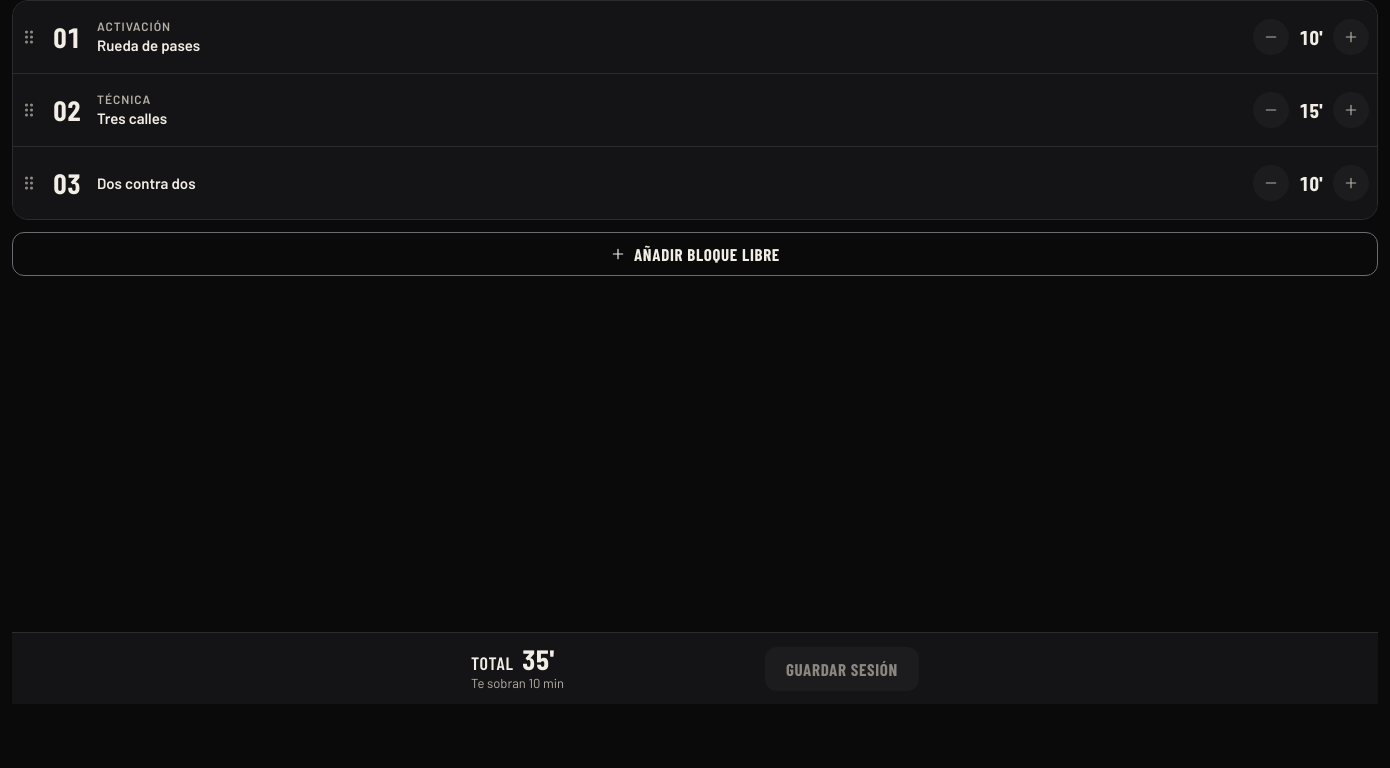
Scenario: PracticeBuilder · encaje con la franja › cambia al tocar +5 y −5: de sobrar a encajar y a pasarse, y vuelta
Click the button named "Más minutos, Rueda de pases" at [1351, 37], box [1329,15,1373,59]
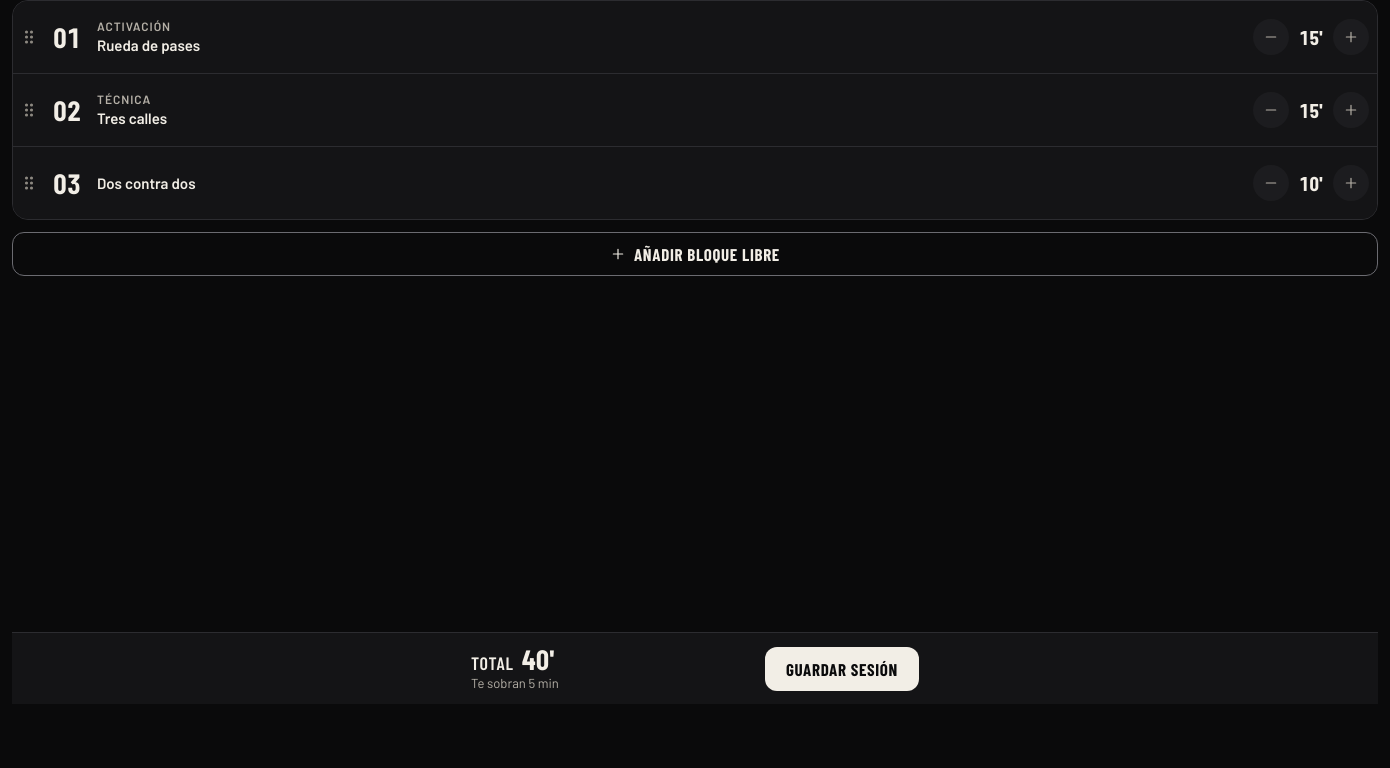
Now the text "Te sobran 5 min" is shown, box [471,674,559,692]
Click the button named "Más minutos, Tres calles" at [1351, 110], box [1329,88,1373,132]
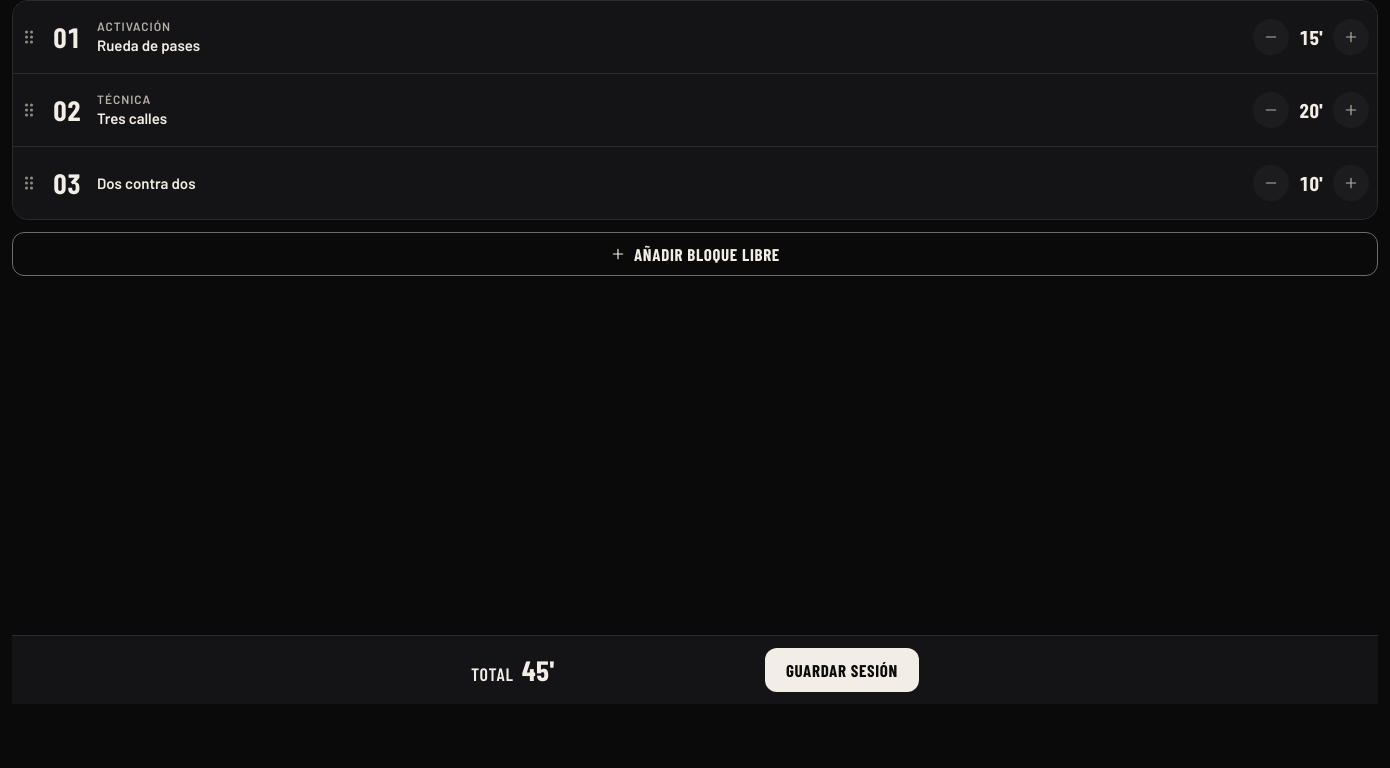
Now the text "45'" is shown, box [522,652,554,686]
Click the button named "Más minutos, Dos contra dos" at [1351, 183], box [1329,161,1373,205]
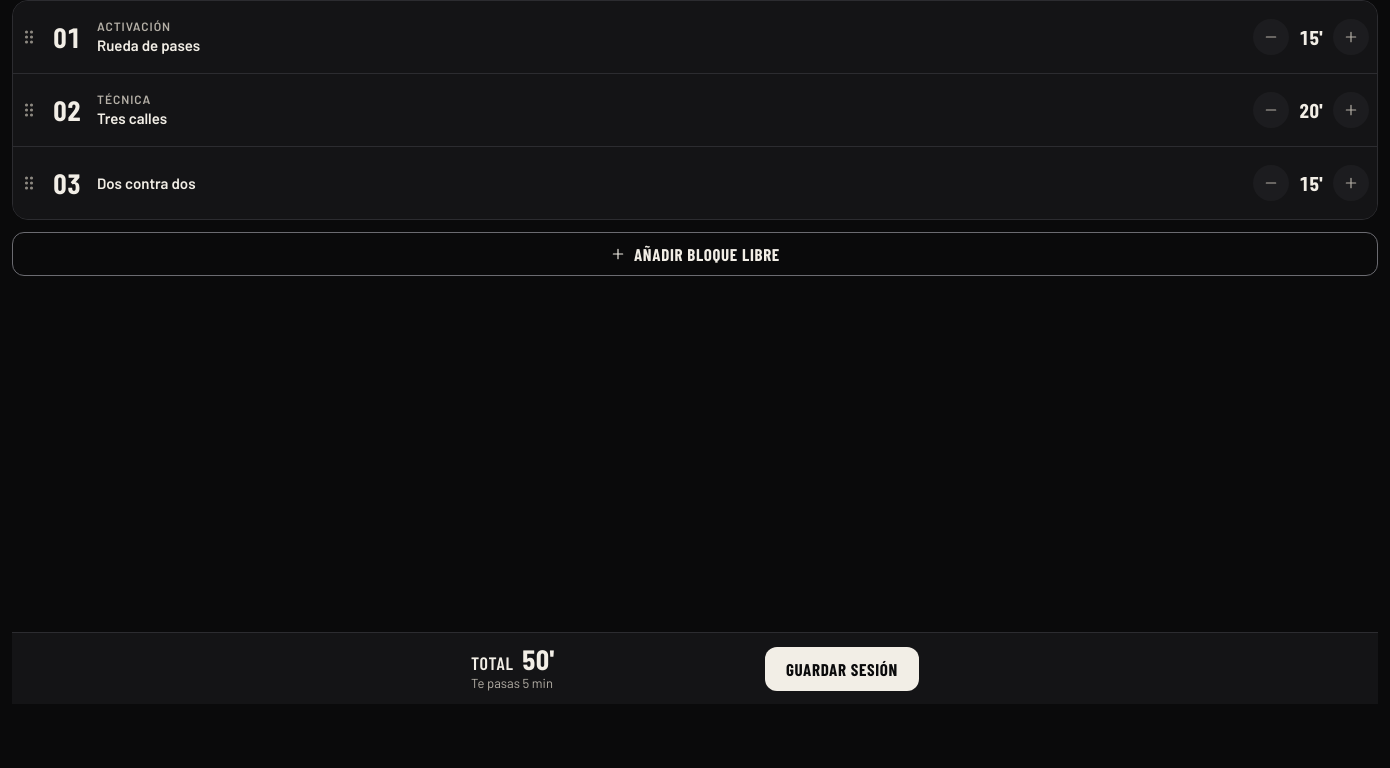
Now the text "Te pasas 5 min" is shown, box [471,674,554,692]
Click the button named "Menos minutos, Dos contra dos" at [1271, 183], box [1249,161,1293,205]
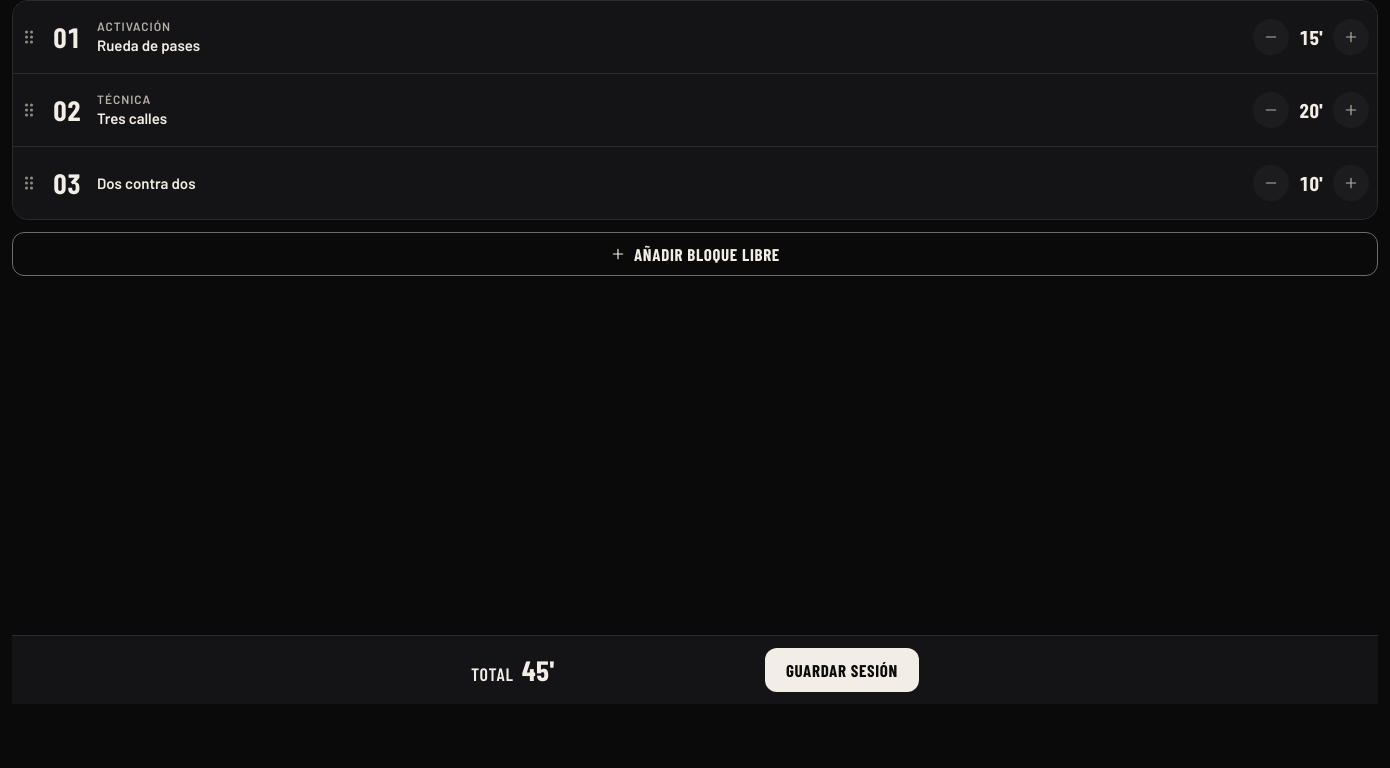
Click the button named "Menos minutos, Tres calles" at [1271, 110], box [1249,88,1293,132]
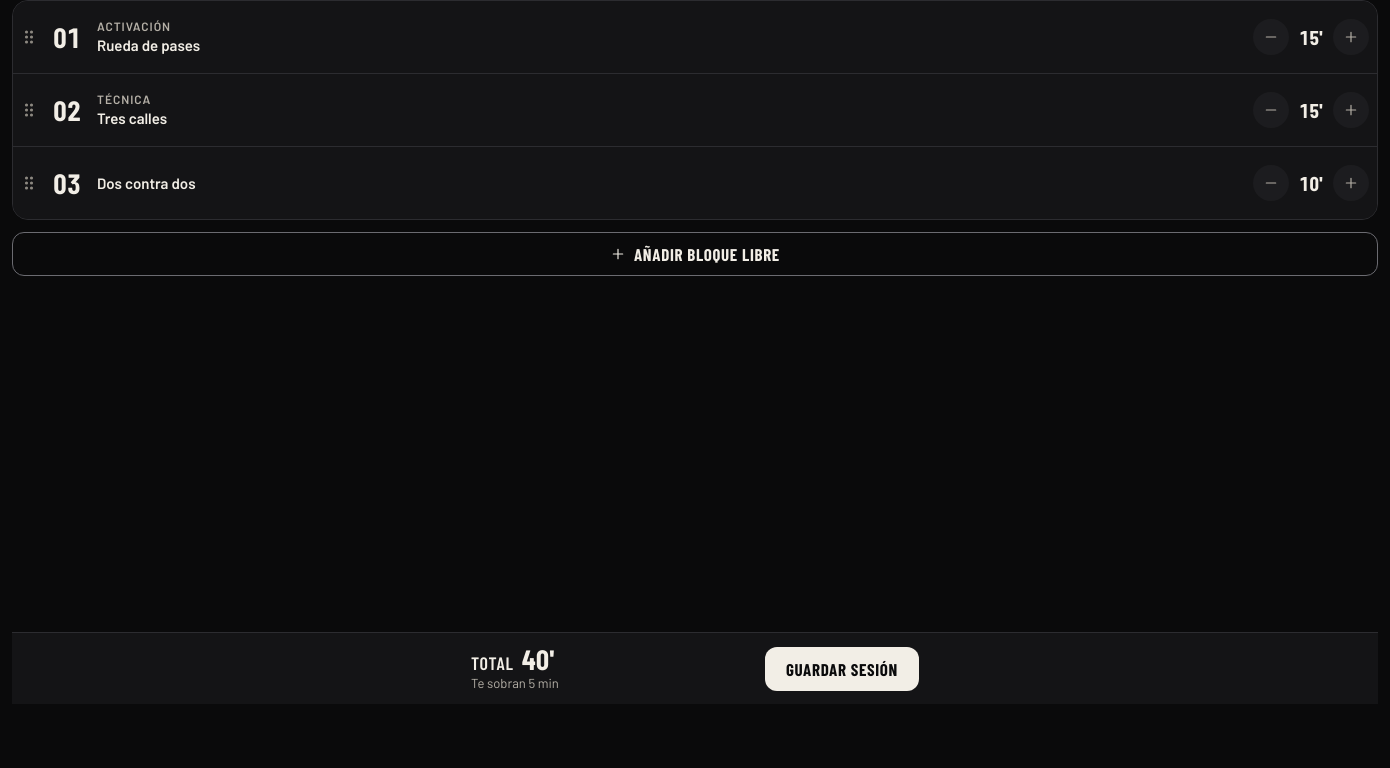
Click the button named "Menos minutos, Tres calles" at [1271, 110], box [1249,88,1293,132]
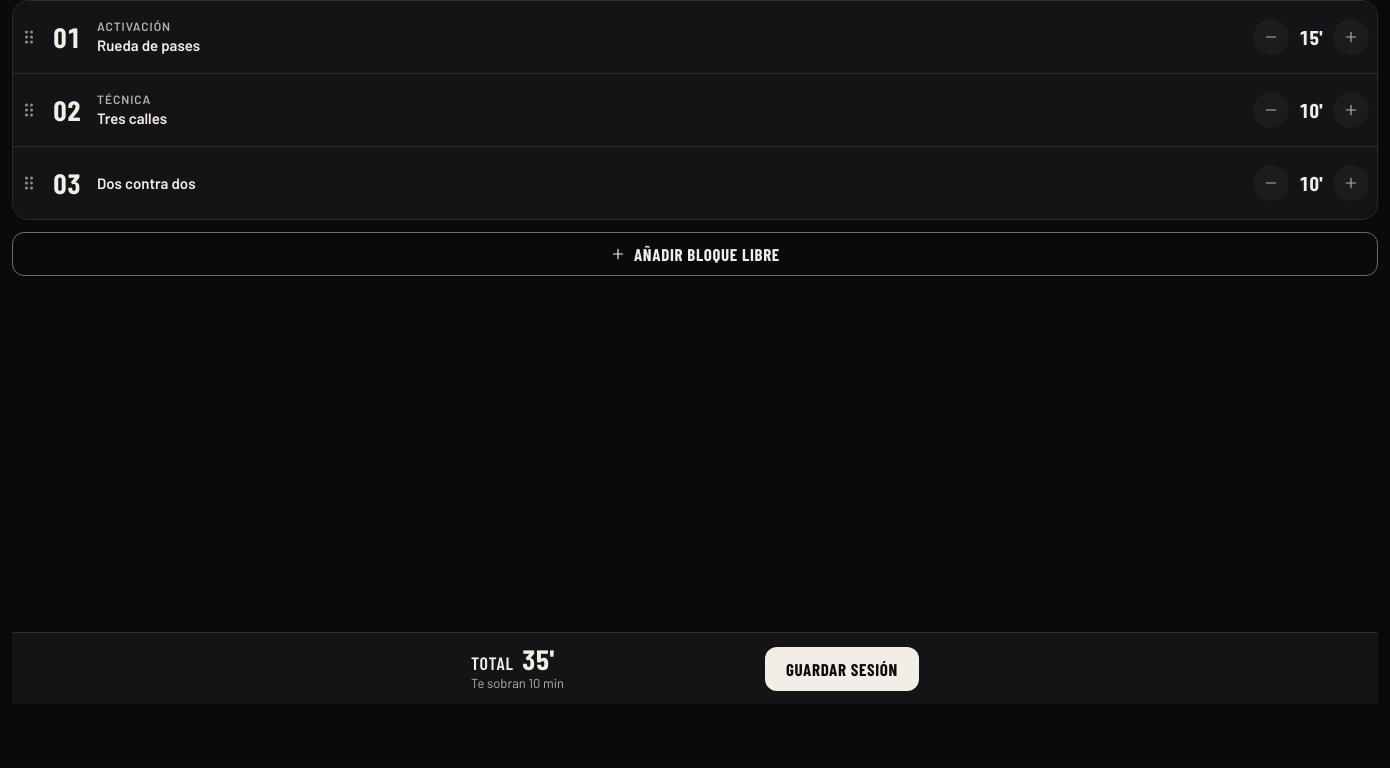
Now the text "Te sobran 10 min" is shown, box [471,674,564,692]
